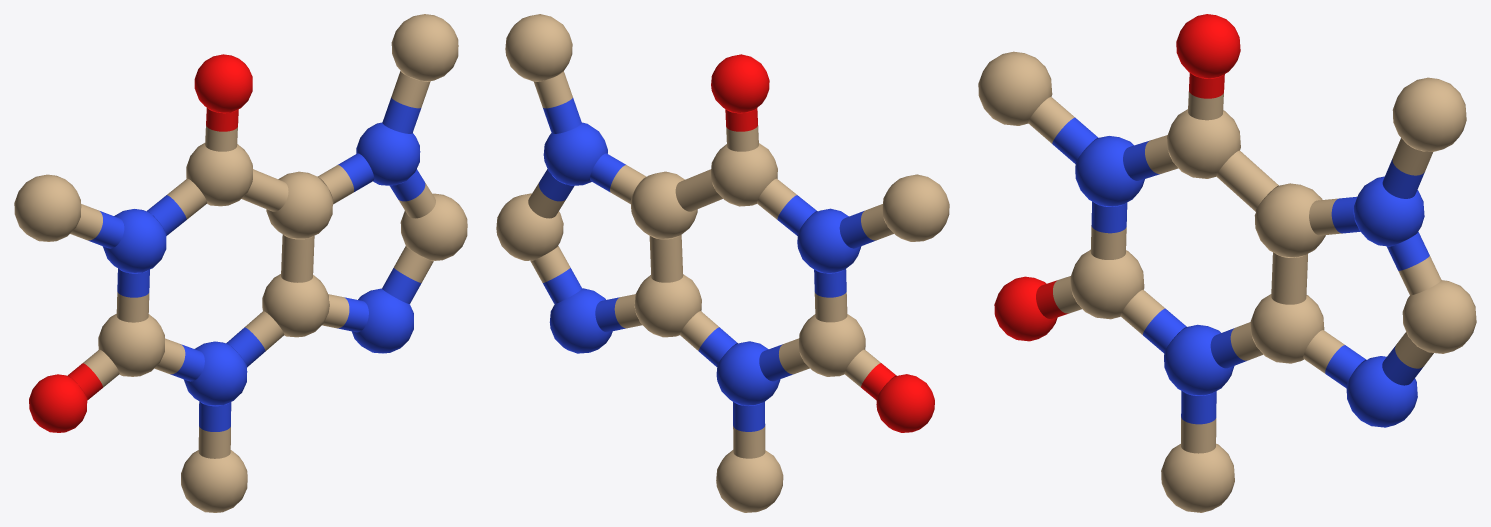
The model's file is Caffeine.dae.
3 renders of one model, left to right at view 1: azimuth 30°, elevation 25°; view 2: azimuth 150°, elevation 25°; view 3: azimuth 330°, elevation 25°, orthographic. The views are drawn at different scales.
Parts seen in each view (by area): view 1: subnode_13, subnode_12, subnode_11, subnode_6, subnode_0, subnode_4, subnode_5, subnode_9, subnode_8, subnode_1, subnode_2, subnode_10 (+30 smaller); view 2: subnode_13, subnode_12, subnode_11, subnode_6, subnode_0, subnode_4, subnode_5, subnode_9, subnode_8, subnode_1, subnode_2, subnode_10 (+30 smaller); view 3: subnode_12, subnode_9, subnode_13, subnode_11, subnode_5, subnode_4, subnode_0, subnode_6, subnode_10, subnode_8, subnode_1, subnode_2 (+30 smaller).
Boxes of the visible parts, bbox=[...] form: subnode_13: bbox=[14, 174, 81, 241]; subnode_12: bbox=[391, 14, 458, 80]; subnode_11: bbox=[181, 450, 247, 512]; subnode_6: bbox=[262, 274, 328, 337]; subnode_0: bbox=[98, 314, 164, 376]; subnode_4: bbox=[186, 143, 252, 206]; subnode_5: bbox=[266, 171, 332, 238]; subnode_9: bbox=[400, 193, 467, 260]; subnode_8: bbox=[356, 122, 420, 185]; subnode_1: bbox=[103, 209, 166, 272]; subnode_2: bbox=[183, 341, 247, 405]; subnode_10: bbox=[352, 288, 413, 353]; subnode_13: bbox=[882, 174, 949, 241]; subnode_12: bbox=[505, 14, 572, 81]; subnode_11: bbox=[716, 450, 783, 512]; subnode_6: bbox=[634, 274, 701, 337]; subnode_0: bbox=[798, 314, 865, 376]; subnode_4: bbox=[710, 143, 777, 206]; subnode_5: bbox=[631, 171, 697, 238]; subnode_9: bbox=[496, 193, 563, 260]; subnode_8: bbox=[543, 122, 607, 185]; subnode_1: bbox=[797, 208, 861, 273]; subnode_2: bbox=[716, 341, 780, 405]; subnode_10: bbox=[549, 288, 612, 353]; subnode_12: bbox=[1392, 77, 1466, 151]; subnode_9: bbox=[1402, 280, 1476, 353]; subnode_13: bbox=[978, 51, 1052, 125]; subnode_11: bbox=[1161, 443, 1234, 512]; subnode_5: bbox=[1254, 183, 1325, 257]; subnode_4: bbox=[1167, 109, 1240, 178]; subnode_0: bbox=[1070, 250, 1144, 319]; subnode_6: bbox=[1250, 294, 1324, 363]; subnode_10: bbox=[1346, 356, 1417, 427]; subnode_8: bbox=[1354, 176, 1424, 246]; subnode_1: bbox=[1075, 136, 1144, 206]; subnode_2: bbox=[1164, 324, 1234, 395].
Bounding box in the file's own units: 6.4 × 6.2 × 0.85.
